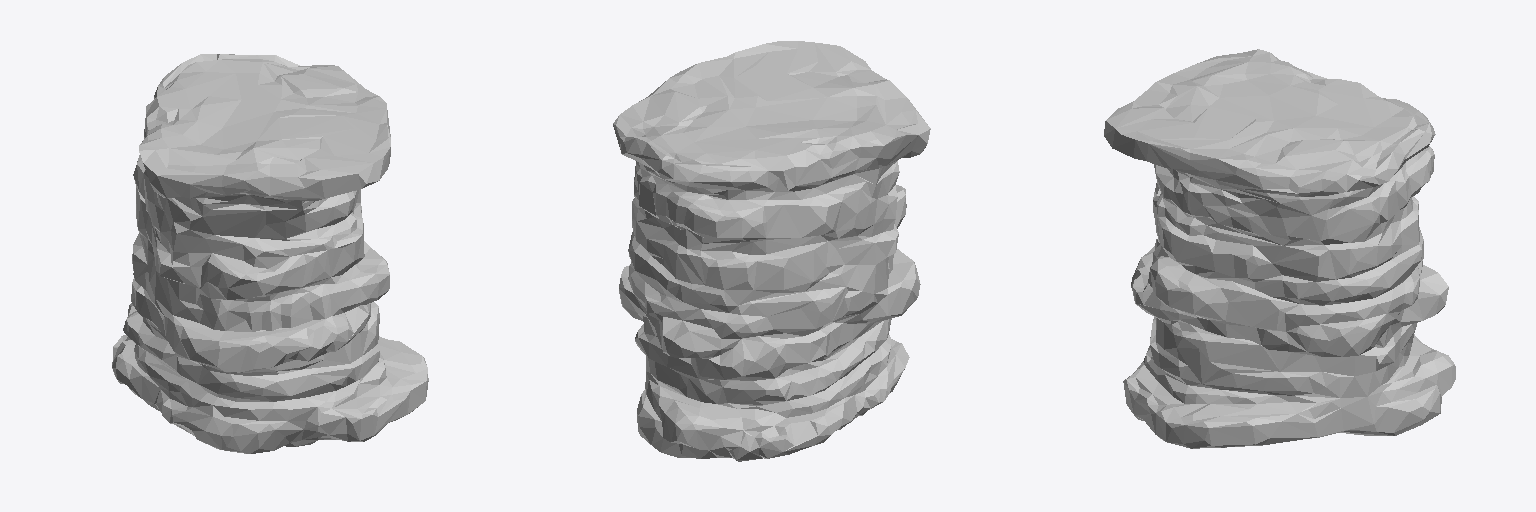
Rendered from VolcanicRock1.obj.
The picture shows the model from 3 angles: view 1: azimuth 30°, elevation 25°; view 2: azimuth 150°, elevation 25°; view 3: azimuth 270°, elevation 25°; orthographic projection.
Parts seen in each view (by area): view 1: rock_big_a_lp; view 2: rock_big_a_lp; view 3: rock_big_a_lp.
Boxes of the visible parts, box(x1,y1,x2,y2) form: rock_big_a_lp: box(112, 54, 428, 453); rock_big_a_lp: box(613, 41, 930, 461); rock_big_a_lp: box(1104, 49, 1455, 448).
Size of the model in its own units: 0.8758 by 0.9376 by 1.01.